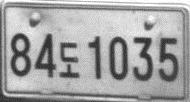0: (108, 36, 129, 80)
1: (86, 35, 103, 80)
3: (130, 36, 154, 81)
4: (33, 32, 57, 78)
5: (157, 36, 179, 82)
8: (10, 32, 31, 77)
도: (58, 41, 80, 79)
